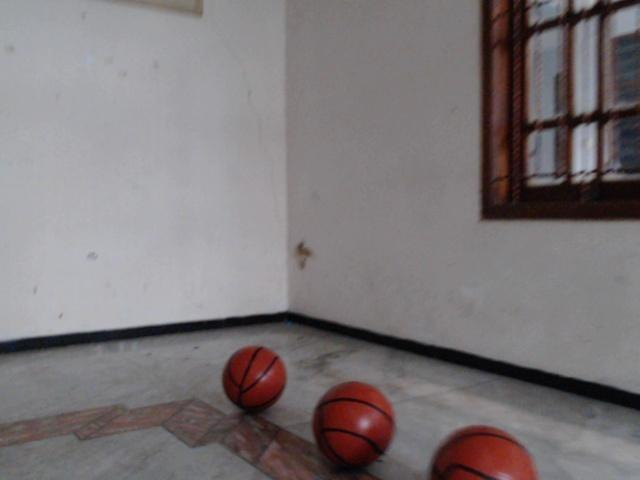Sports-Ball: (420, 419, 541, 480), (313, 380, 392, 472), (217, 347, 289, 416)
